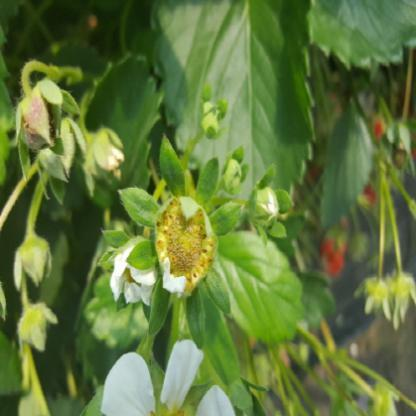Strawberry_Blossom_Blight: (156, 198, 218, 294)
